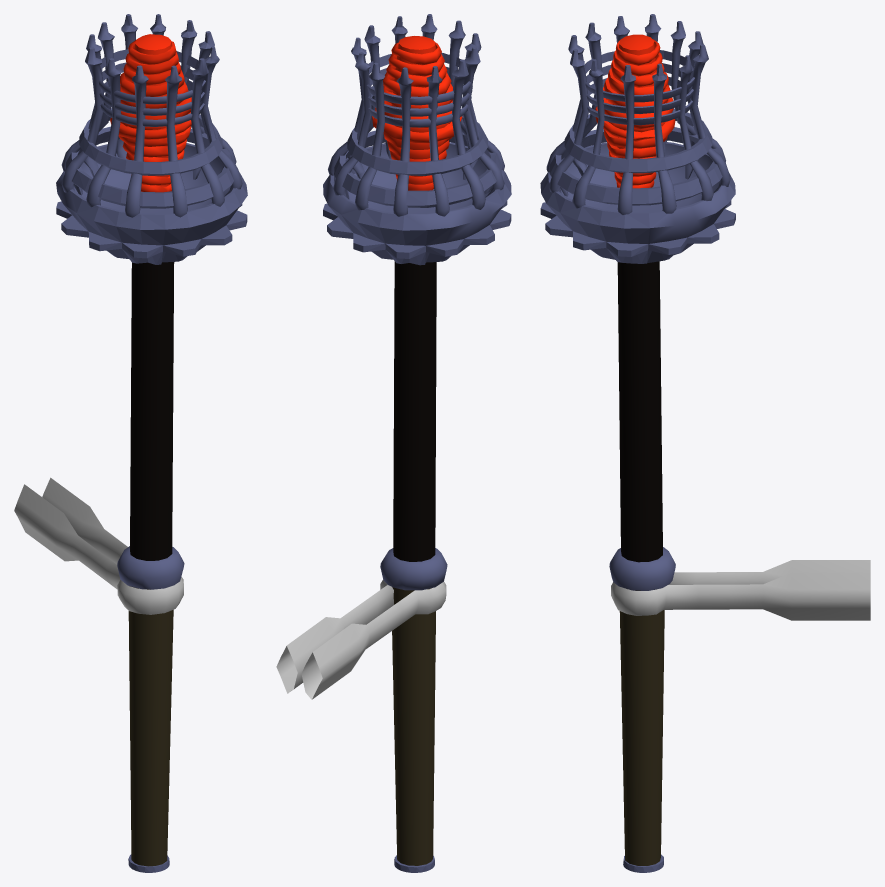
The model's file is TorchWall_13.fbx.
The picture shows the model from 3 angles, left to right: view 1: azimuth 30°, elevation 25°; view 2: azimuth 150°, elevation 25°; view 3: azimuth 270°, elevation 25°; orthographic projection.
Visible parts, largest first — view 1: TorchWall_13; view 2: TorchWall_13; view 3: TorchWall_13.
Boxes of the visible parts, bbox=[...] form: TorchWall_13: bbox=[14, 14, 247, 872]; TorchWall_13: bbox=[276, 14, 511, 872]; TorchWall_13: bbox=[540, 14, 870, 872].
Size of the model in its own units: 19.26 by 33.7 by 93.16.
